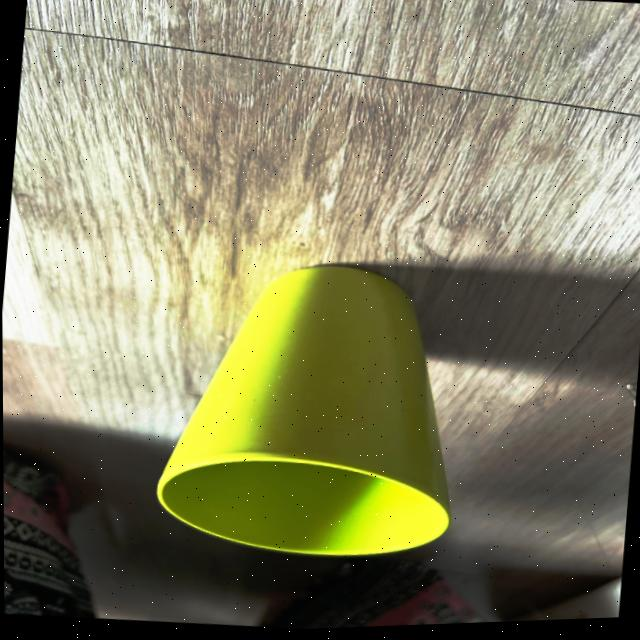WaterGlass: (156, 268, 449, 558)
